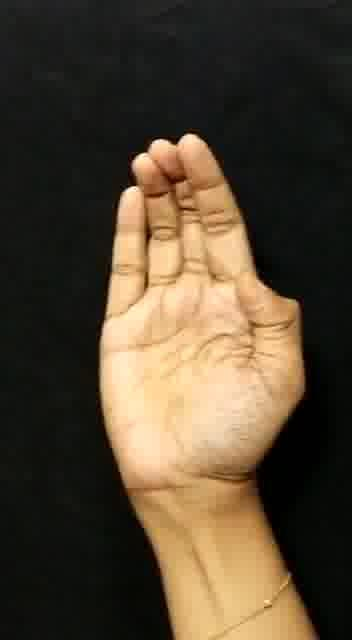sarpsheesh: (70, 120, 322, 498)
